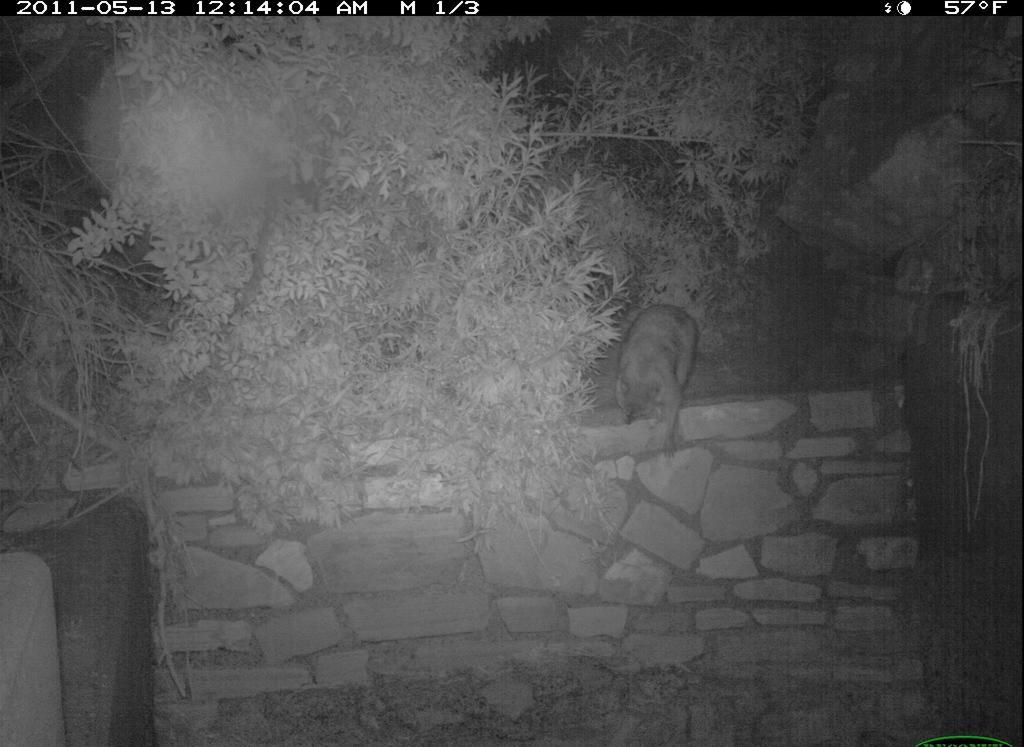raccoon: (600, 294, 710, 463)
